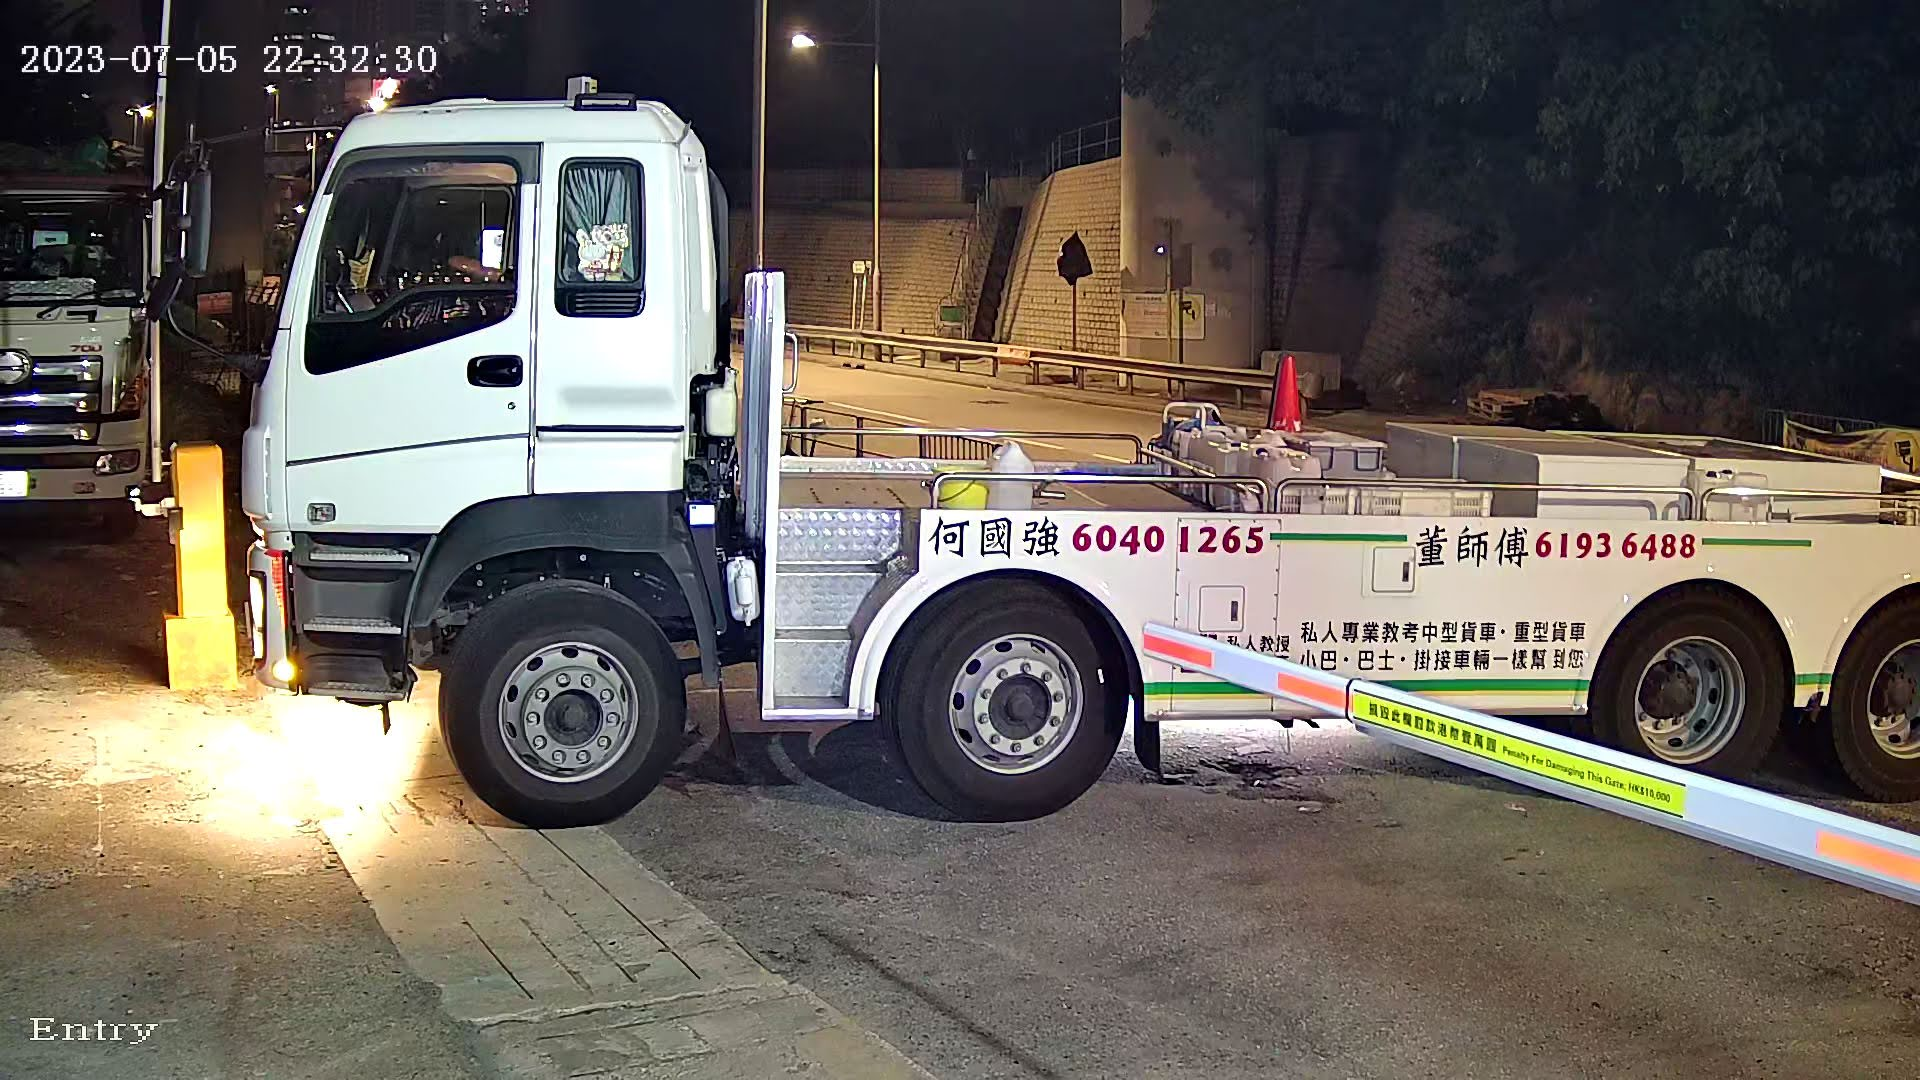truck: (177, 33, 1920, 864)
